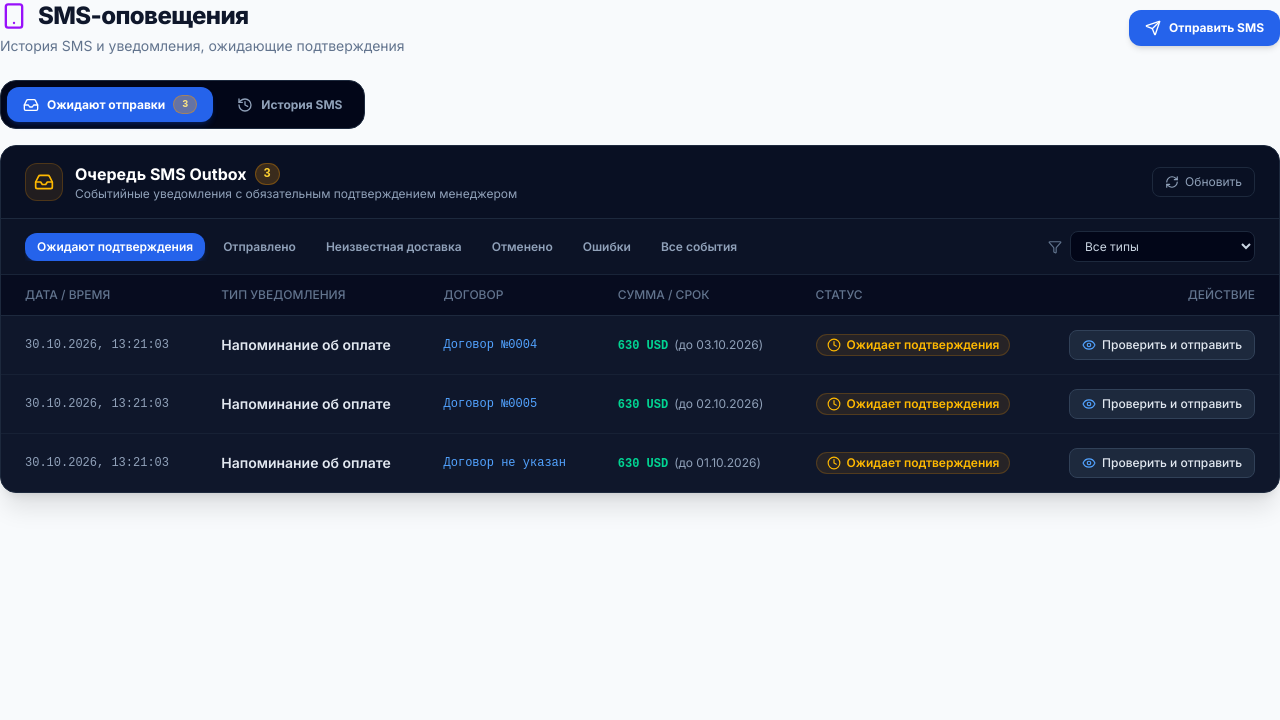
it: SmsNotificationsPage Manager UX Hotfix Tests › K. regression test: modal resolves structured contract_number from previewData or event, preserving leading zeros without regex parsing
Click the button "Проверить и отправить" in the row of "Договор №0004". click: [1162, 345]
box: [1069,330,1255,360]
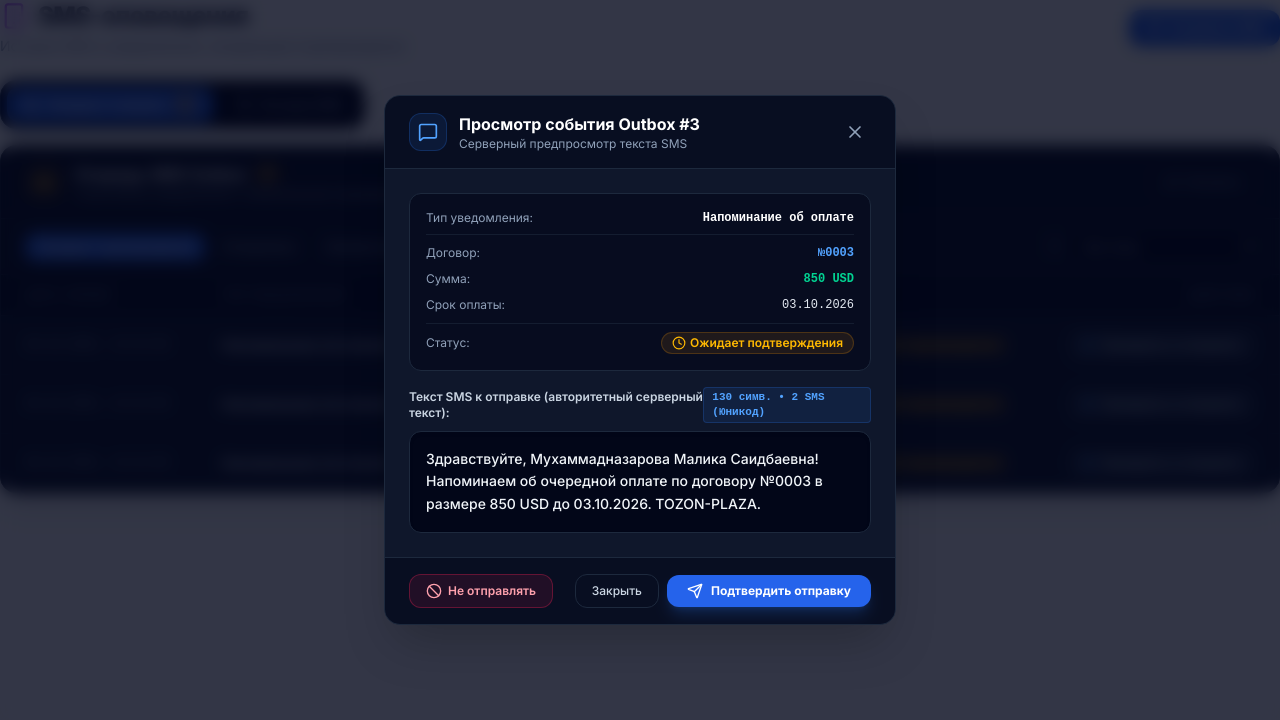
Check: the text "№0003" is shown, box [818,245,854,261]
Check: the heading "Просмотр события Outbox #3" is shown, box [459,112,700,136]
